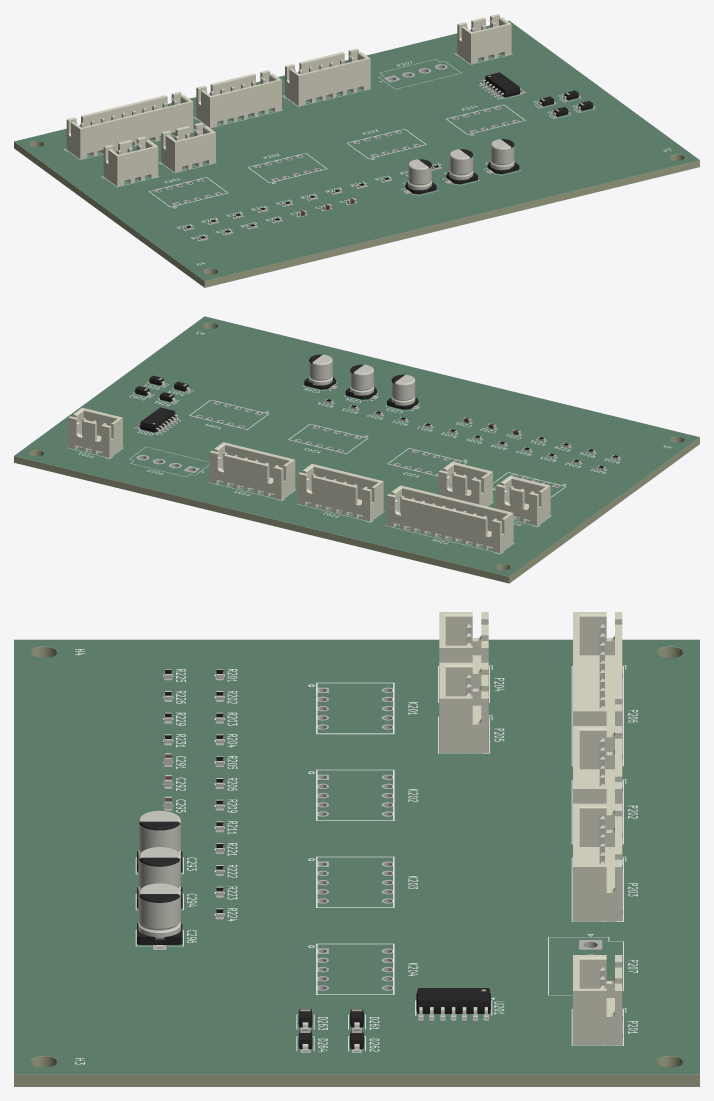
The model's file is ext-tank-routing.glb.
3 renders of one model, top to bottom at view 1: azimuth 30°, elevation 25°; view 2: azimuth 150°, elevation 25°; view 3: azimuth 270°, elevation 25°, orthographic. The views are drawn at different scales.
Parts seen in each view (by area): view 1: =>[0:1:1:22], =>[0:1:1:20], =>[0:1:1:9] (×2), =>[0:1:1:11] (×3), =>[0:1:1:13], =>[0:1:1:17] (×3), =>[0:1:1:19], =>[0:1:1:18], =>[0:1:1:5], =>[0:1:1:21]; view 2: =>[0:1:1:20], =>[0:1:1:22], =>[0:1:1:9] (×2), =>[0:1:1:11] (×3), =>[0:1:1:13], =>[0:1:1:19], =>[0:1:1:17] (×3), =>[0:1:1:18], =>[0:1:1:5], =>[0:1:1:21]; view 3: =>[0:1:1:22], =>[0:1:1:20], =>[0:1:1:11] (×3), =>[0:1:1:9] (×2), =>[0:1:1:19], =>[0:1:1:17] (×3), =>[0:1:1:13], =>[0:1:1:18], =>[0:1:1:5].
Boxes of the visible parts, x1,y1,x2,y2 form: =>[0:1:1:22]: (14,21,699,287); =>[0:1:1:20]: (14,20,699,280); =>[0:1:1:9] (×2): (196,48,370,127); =>[0:1:1:11] (×3): (103,14,511,186); =>[0:1:1:13]: (66,91,193,159); =>[0:1:1:17] (×3): (405,139,519,194); =>[0:1:1:19]: (64,53,671,265); =>[0:1:1:18]: (155,64,595,241); =>[0:1:1:5]: (480,72,524,98); =>[0:1:1:21]: (14,148,699,287); =>[0:1:1:20]: (14,316,699,576); =>[0:1:1:22]: (14,317,699,583); =>[0:1:1:9] (×2): (209,442,383,521); =>[0:1:1:11] (×3): (68,407,550,525); =>[0:1:1:13]: (386,485,513,552); =>[0:1:1:19]: (68,331,671,554); =>[0:1:1:17] (×3): (304,354,418,409); =>[0:1:1:18]: (79,382,621,548); =>[0:1:1:5]: (135,407,179,433); =>[0:1:1:21]: (14,445,697,583); =>[0:1:1:22]: (14,640,699,1086); =>[0:1:1:20]: (14,639,699,1074); =>[0:1:1:11] (×3): (439,612,622,1045); =>[0:1:1:9] (×2): (573,726,622,921); =>[0:1:1:19]: (75,649,637,1064); =>[0:1:1:17] (×3): (137,810,182,948); =>[0:1:1:13]: (573,612,622,751); =>[0:1:1:18]: (153,671,602,1052); =>[0:1:1:5]: (416,988,490,1018).
Size of the model in its own units: 0.12 by 0.0104 by 0.08.
